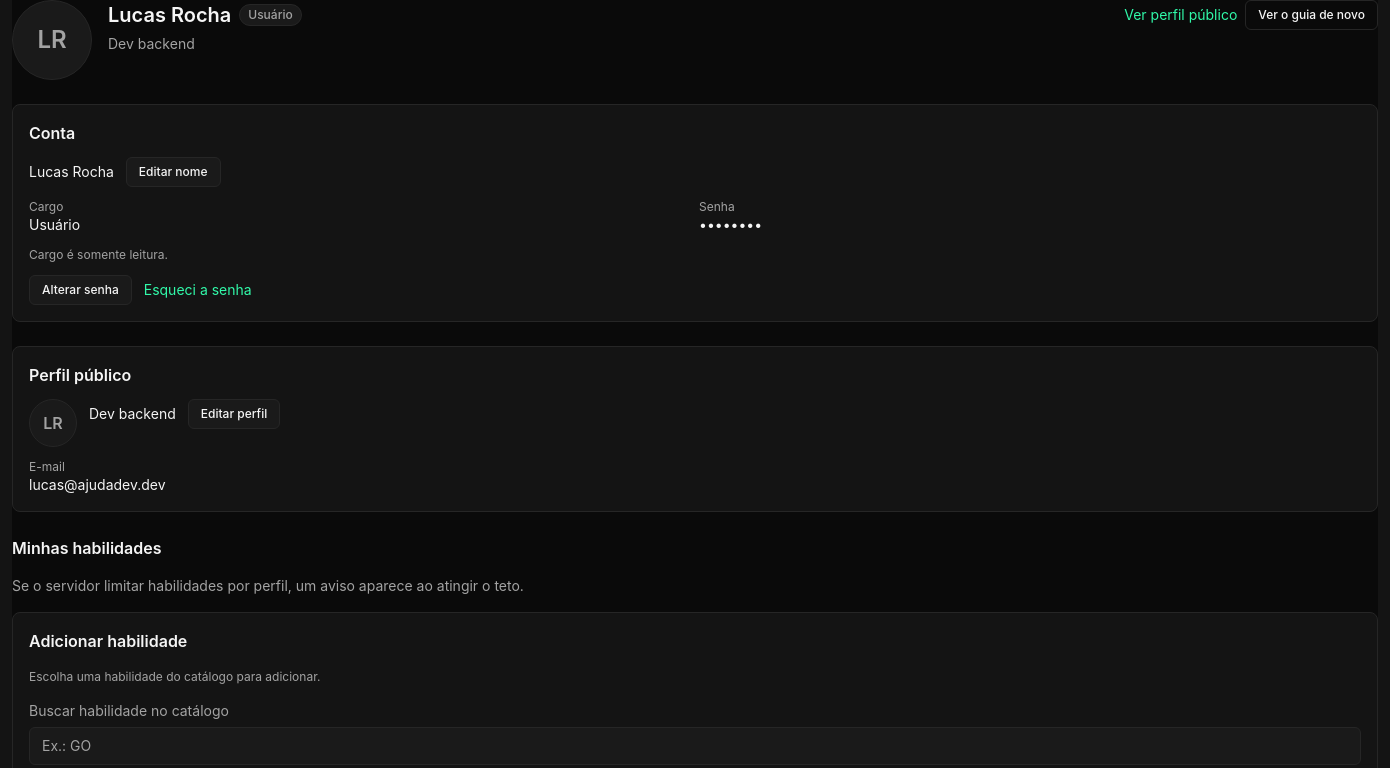
Test: MyProfilePage › 429 de quota de skills mostra o erro e não inclui a habilidade na lista
The image size is (1390, 768).
Type "GO" into the field labelled "Buscar habilidade no catálogo". click: (695, 746)
box: [29,727,1361,765]
(page scrolled)
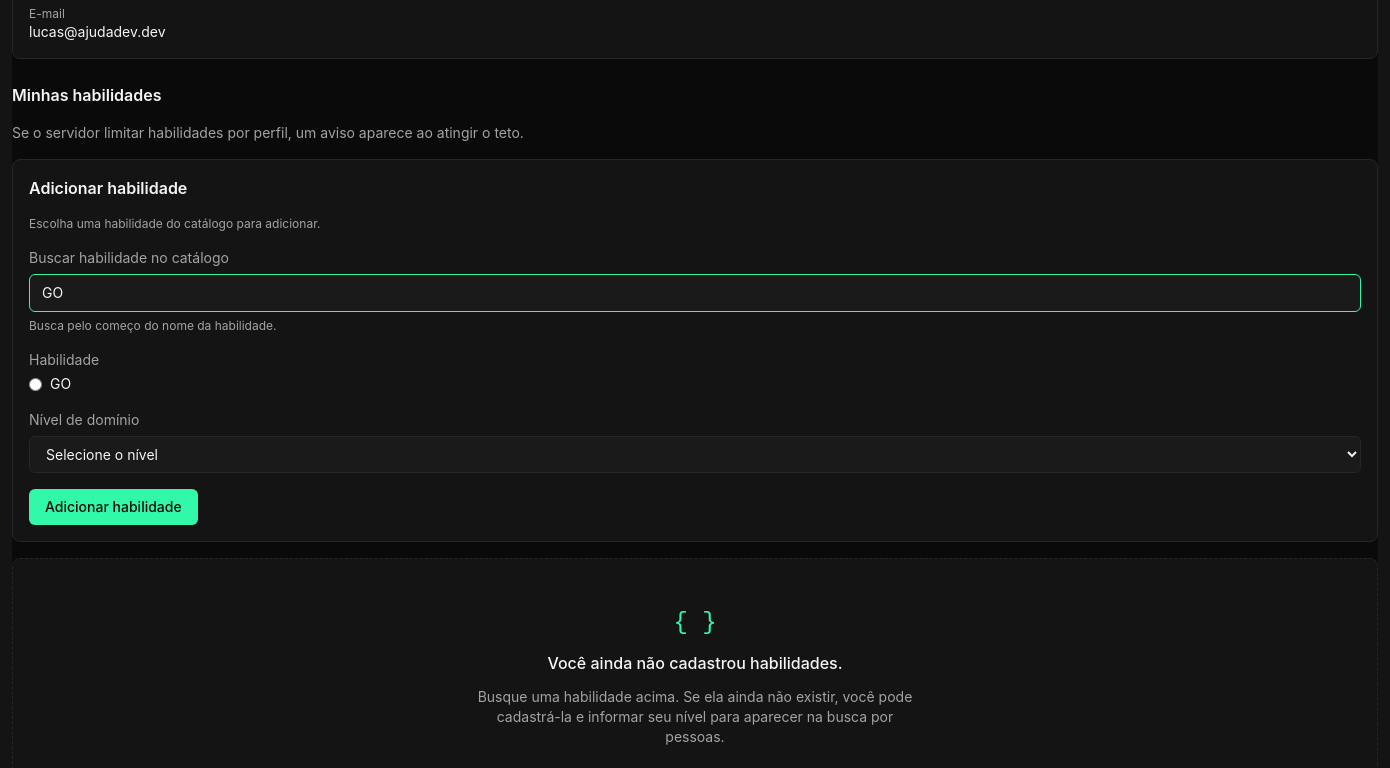
Click the radio button labelled "GO". click: click(36, 384)
box: [29,378,42,390]
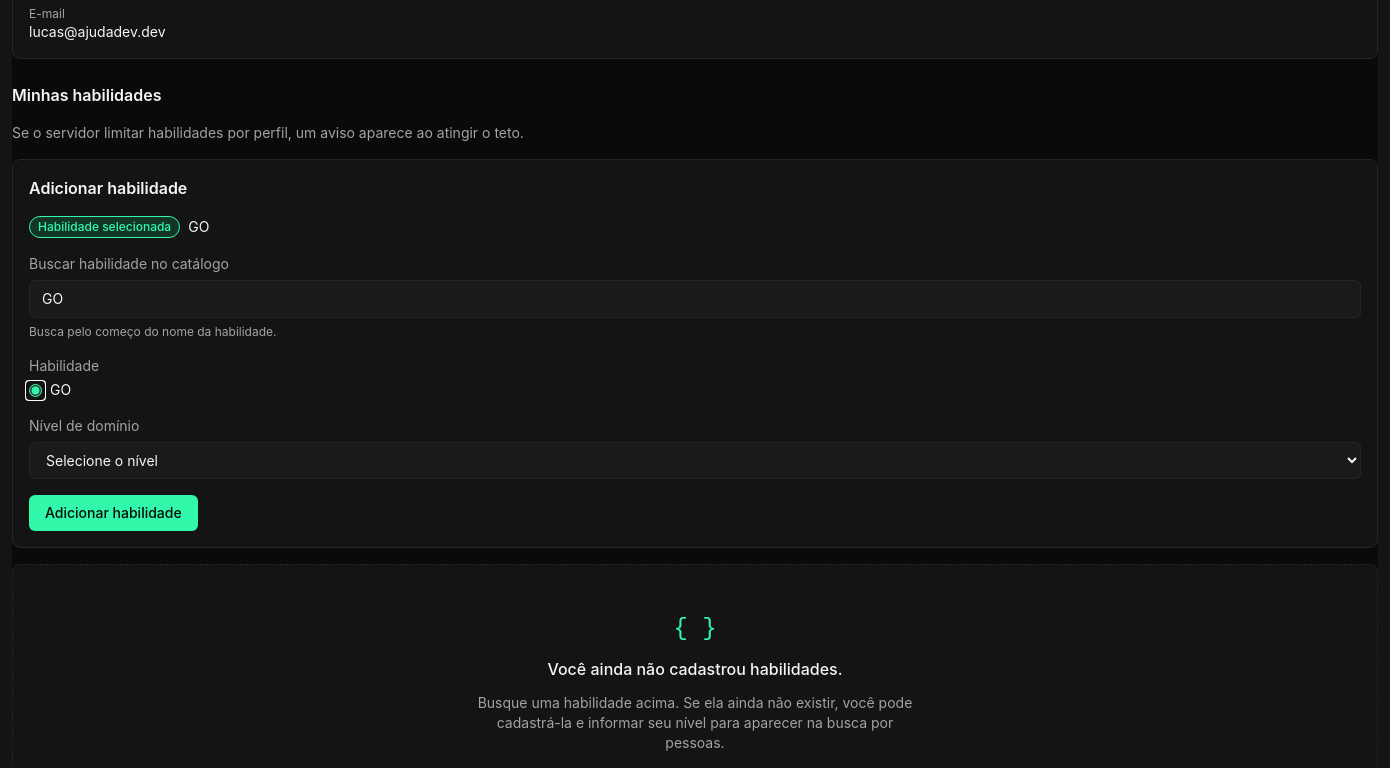
Select "Ensinar" in the dropdown labelled "Nível de domínio". click: (695, 460)
box: [29,442,1361,479]
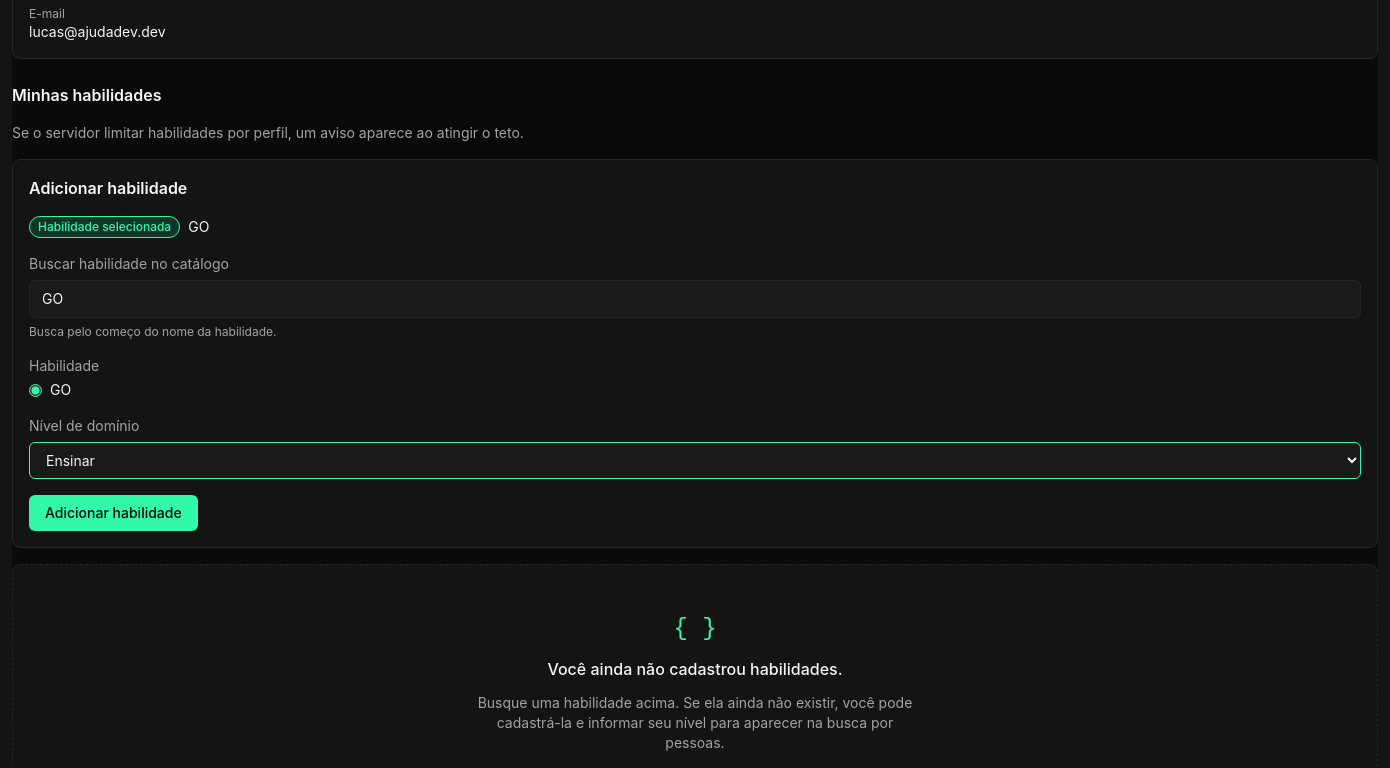
Click the button "Adicionar habilidade". click: click(113, 513)
box: [29,495,198,531]
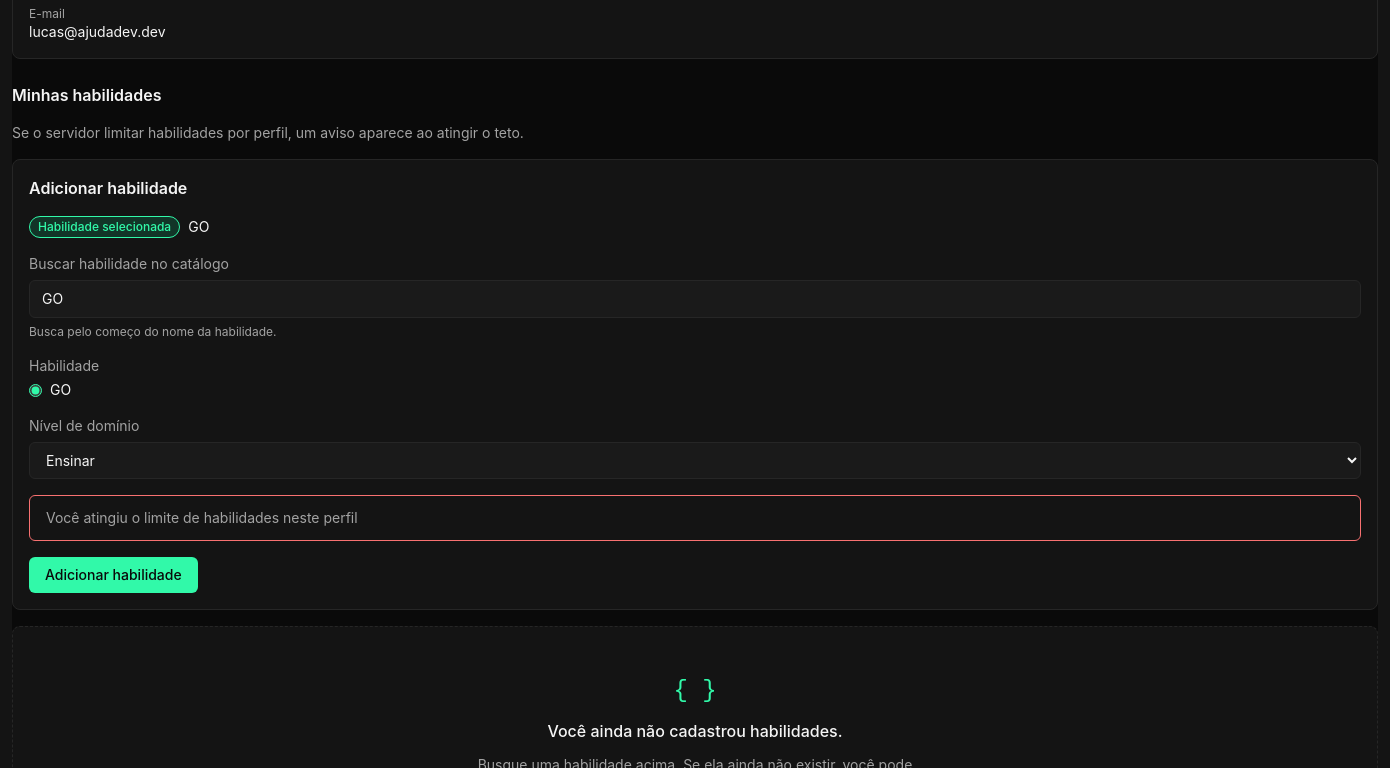
Expected: the text "Você ainda não cadastrou habilidades." is shown, [548,719,842,743]
Now the text "Você atingiu o limite de habilidades neste perfil" is shown, box [46,509,358,526]
